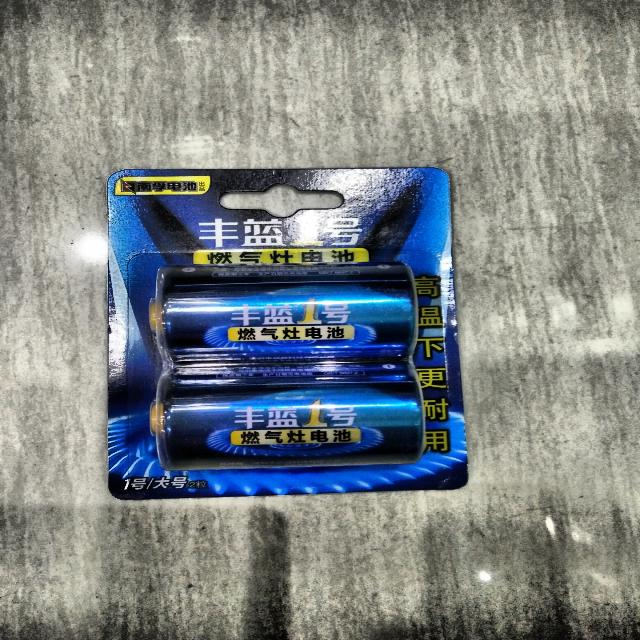Non-Valuable Waste - Batteries: (150, 264, 425, 470)
